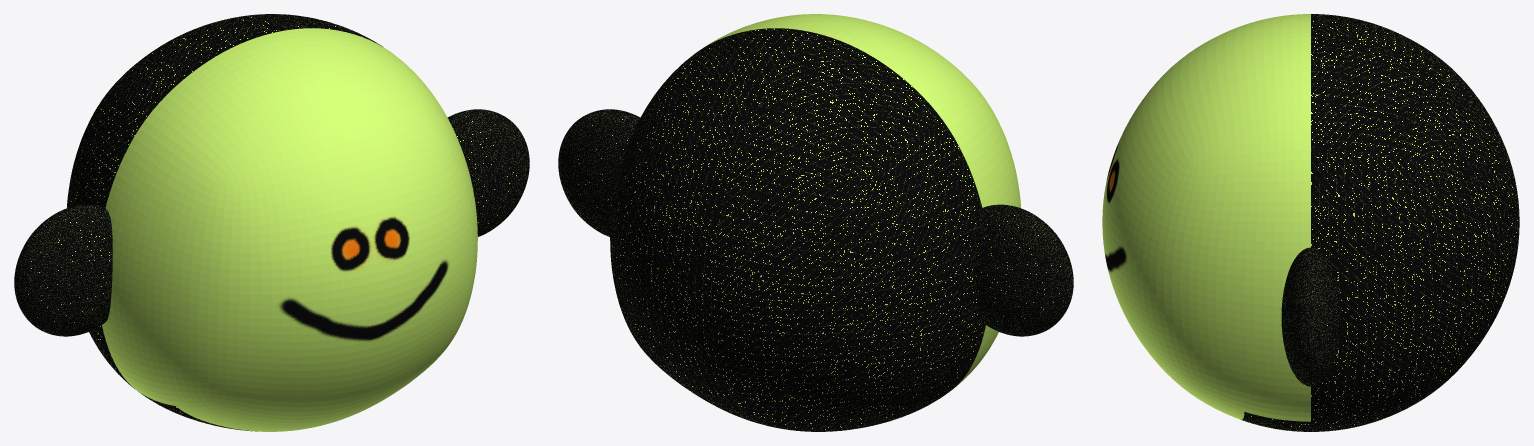
The model's file is head.glb.
3 renders of one model, left to right at view 1: azimuth 30°, elevation 25°; view 2: azimuth 150°, elevation 25°; view 3: azimuth 270°, elevation 25°, orthographic.
Visible parts, largest first — view 1: Roundcube.001; view 2: Roundcube.001; view 3: Roundcube.001.
Part boxes in pixels (left/top/right/bottom): Roundcube.001: left=14, top=14, right=529, bottom=431; Roundcube.001: left=558, top=14, right=1073, bottom=431; Roundcube.001: left=1102, top=14, right=1519, bottom=431.
Size of the model in its own units: 5.25 by 3.72 by 3.72.
1 material, 1 textured.
